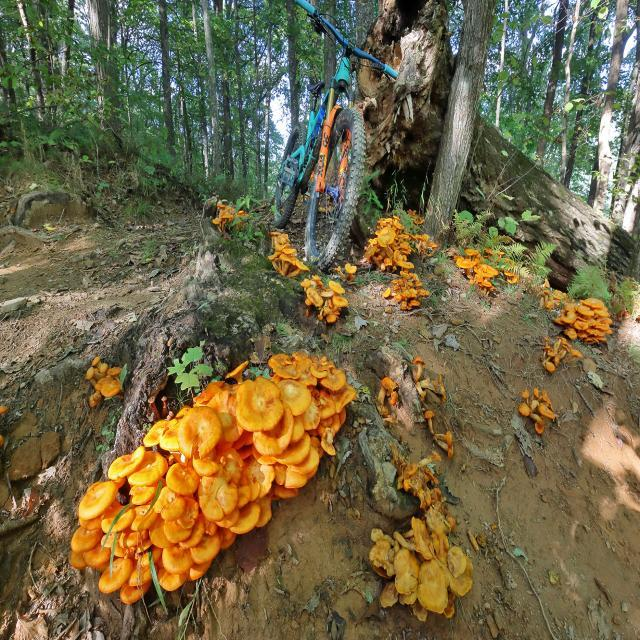Cantharellus cibarius: (70, 352, 351, 595), (370, 483, 477, 621), (267, 230, 347, 329), (368, 217, 429, 316), (459, 240, 530, 292), (557, 293, 614, 346), (520, 370, 557, 436)
